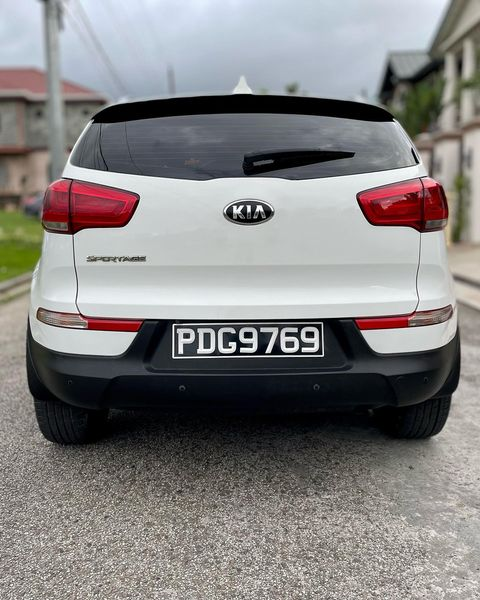License-Plate: (173, 325, 321, 355)
